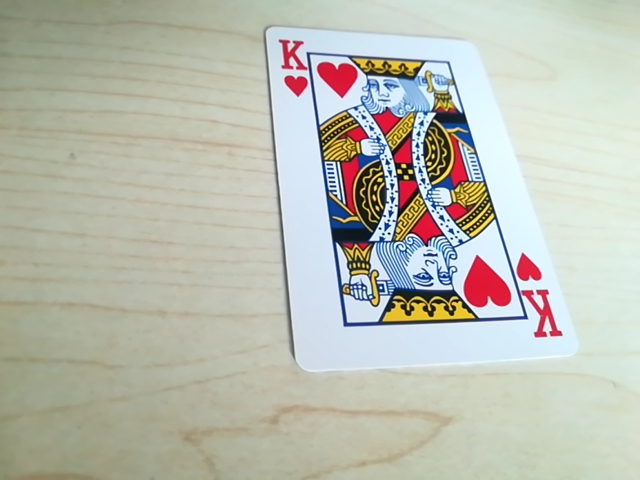hx k: (273, 33, 316, 91), (524, 297, 563, 347)
